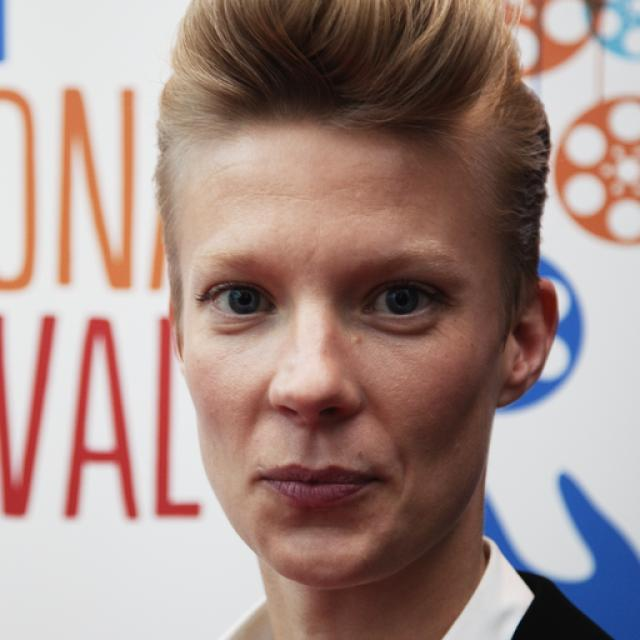Acne: (348, 332, 367, 348)
